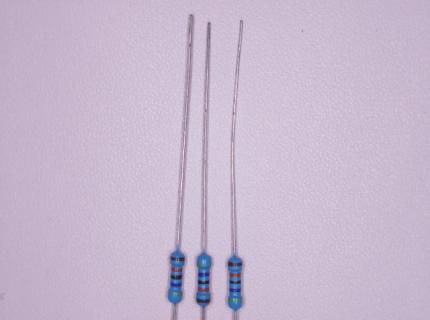Black band: (170, 274, 182, 280), (229, 280, 241, 284), (198, 280, 210, 284)
Brown band: (170, 256, 185, 262), (228, 261, 243, 267), (196, 298, 211, 303)
Orange band: (171, 267, 183, 272), (198, 287, 209, 292), (229, 273, 241, 277)
Violet band: (170, 282, 182, 287), (198, 272, 210, 277), (229, 288, 241, 292)
Yellow band: (228, 298, 243, 302), (168, 292, 183, 296), (197, 263, 211, 267)
